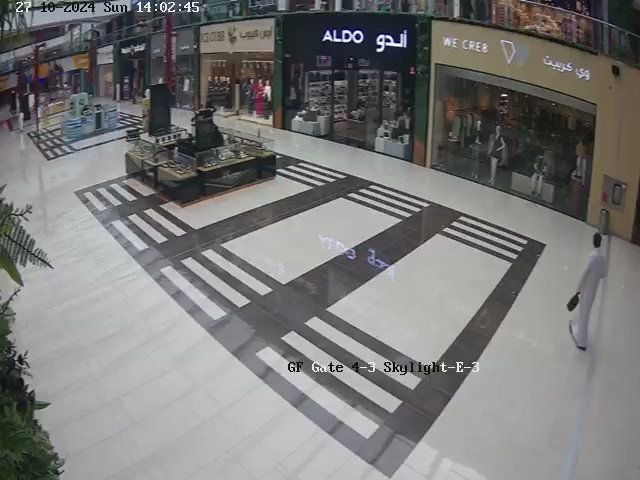male: (564, 218, 610, 353)
other: (244, 72, 275, 124), (567, 140, 587, 213), (205, 71, 234, 117), (466, 116, 485, 183), (489, 124, 507, 188), (528, 151, 549, 202), (180, 73, 190, 105)
